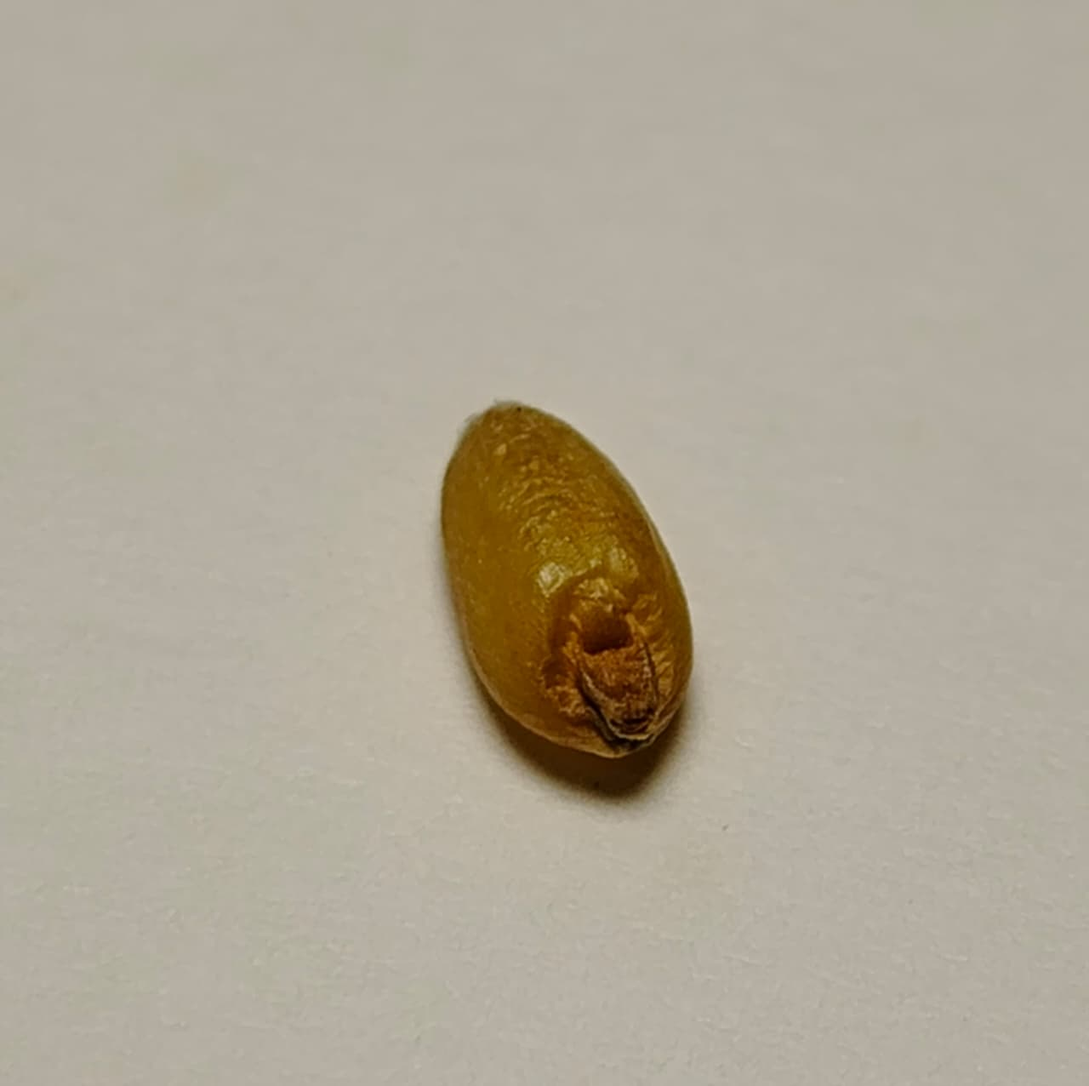healthy: (442, 406, 691, 754)
